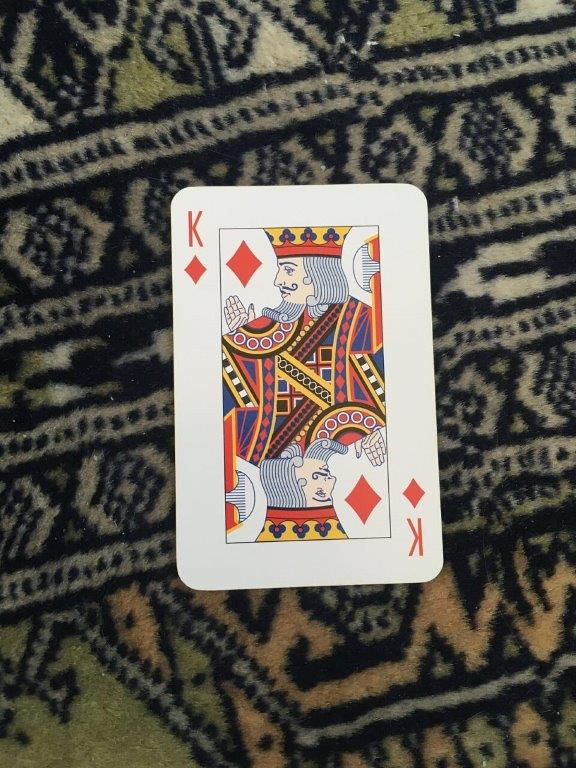KD: (166, 179, 447, 593)
